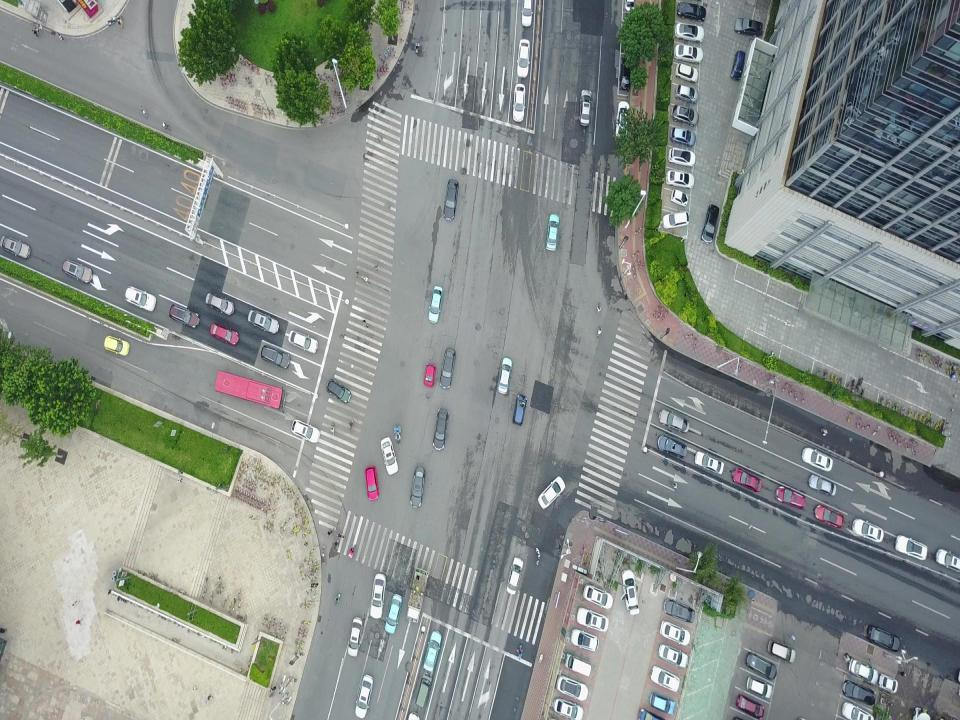car: (621, 570, 641, 617), (658, 404, 689, 434), (745, 651, 778, 679), (848, 655, 878, 685), (247, 307, 279, 335), (538, 475, 565, 508), (867, 625, 900, 652), (355, 673, 374, 719), (896, 533, 927, 561), (577, 606, 609, 633), (169, 303, 201, 329), (124, 286, 156, 312), (852, 518, 884, 544), (842, 681, 876, 705), (583, 582, 613, 609), (650, 665, 680, 692), (62, 258, 93, 284), (801, 447, 833, 472), (664, 599, 696, 624), (657, 644, 689, 669), (558, 676, 588, 702), (384, 593, 403, 634), (701, 204, 720, 245), (380, 436, 399, 476), (438, 346, 456, 388), (423, 630, 441, 672), (768, 637, 796, 664), (288, 330, 318, 355), (260, 344, 290, 369), (290, 419, 320, 444), (657, 434, 687, 459), (731, 467, 761, 492), (660, 620, 690, 645), (0, 234, 31, 258), (813, 504, 844, 528), (370, 574, 386, 620), (736, 693, 764, 719), (551, 698, 584, 720), (210, 322, 240, 346), (694, 451, 724, 475), (775, 485, 805, 509), (433, 407, 449, 451), (505, 556, 523, 595), (734, 15, 763, 39), (205, 292, 235, 315), (569, 628, 599, 651), (443, 179, 459, 222), (808, 473, 836, 497), (676, 0, 706, 22), (325, 379, 351, 404), (746, 675, 773, 699), (674, 22, 704, 43), (363, 465, 380, 502), (936, 548, 960, 574), (672, 105, 700, 127), (410, 467, 425, 508), (665, 169, 695, 189), (103, 336, 130, 358), (842, 702, 875, 720), (673, 45, 703, 64), (348, 617, 362, 657), (668, 148, 696, 168), (428, 286, 442, 324), (499, 357, 513, 395), (649, 694, 675, 714), (616, 102, 630, 139), (548, 210, 560, 253), (513, 83, 526, 122), (674, 84, 698, 105), (675, 63, 699, 83), (579, 88, 591, 127), (619, 53, 631, 92), (670, 129, 696, 147), (517, 40, 529, 78), (879, 671, 898, 695), (513, 394, 527, 426), (663, 212, 689, 229), (638, 708, 666, 720), (670, 190, 688, 207), (424, 363, 436, 387), (522, 0, 532, 27), (622, 0, 635, 12)
truck: (214, 369, 286, 413), (407, 567, 429, 623)
van: (566, 653, 592, 677), (415, 675, 432, 708), (731, 50, 745, 81)
